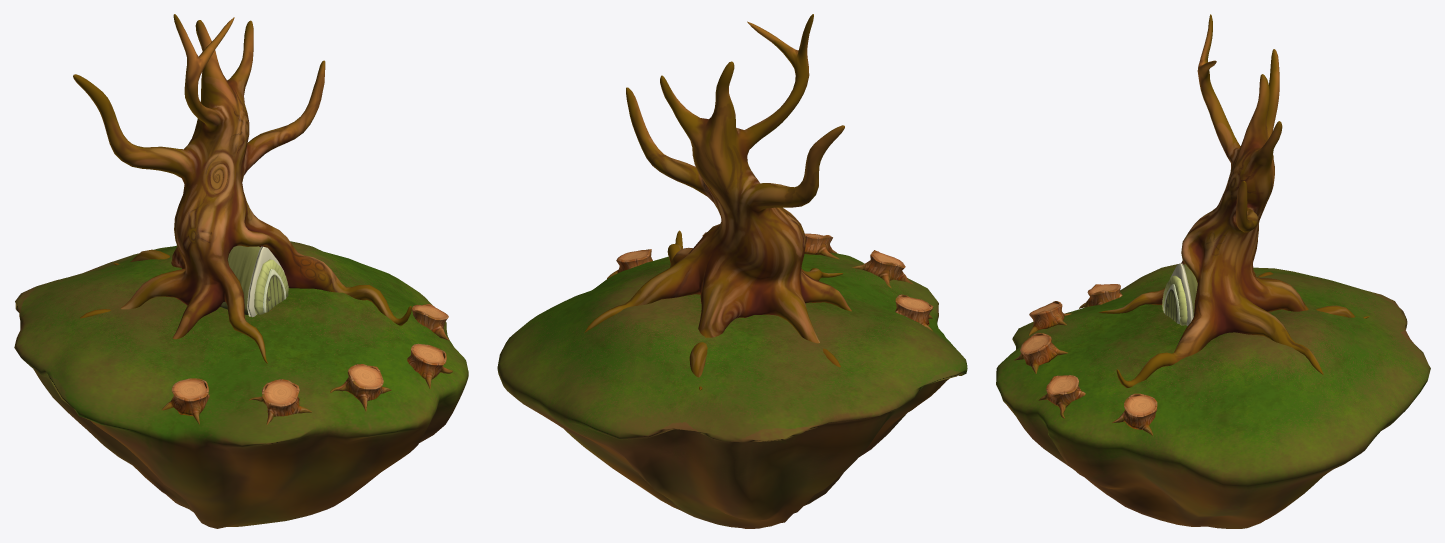
Rendered from EilandFinalContext2.fbx.
The picture shows the model from 3 angles, left to right: view 1: azimuth 30°, elevation 25°; view 2: azimuth 150°, elevation 25°; view 3: azimuth 270°, elevation 25°; orthographic projection. The views are drawn at different scales.
Visible parts, largest first — view 1: PM3D_eiland, pasted__boom1, Huiske_pCube3, pasted__boomstronk3, pasted__boomstronk2, pasted__boomstronk4, pasted__boomstronk5, pasted__boomstronk6; view 2: PM3D_eiland, pasted__boom1, pasted__boomstronk3, pasted__boomstronk4, pasted__boomstronk2, pasted__boomstronk6; view 3: PM3D_eiland, pasted__boom1, Huiske_pCube3, pasted__boomstronk6, pasted__boomstronk2, pasted__boomstronk5, pasted__boomstronk3, pasted__boomstronk4.
Boxes of the visible parts, <box> form: PM3D_eiland: <box>14,241,468,528</box>; pasted__boom1: <box>73,14,411,363</box>; Huiske_pCube3: <box>220,245,288,317</box>; pasted__boomstronk3: <box>249,379,311,424</box>; pasted__boomstronk2: <box>330,364,391,411</box>; pasted__boomstronk4: <box>162,378,209,424</box>; pasted__boomstronk5: <box>407,343,452,388</box>; pasted__boomstronk6: <box>412,304,449,340</box>; PM3D_eiland: <box>497,253,967,528</box>; pasted__boom1: <box>584,14,851,390</box>; pasted__boomstronk3: <box>852,250,912,288</box>; pasted__boomstronk4: <box>895,294,933,331</box>; pasted__boomstronk2: <box>804,233,839,259</box>; pasted__boomstronk6: <box>607,249,652,278</box>; PM3D_eiland: <box>996,263,1430,528</box>; pasted__boom1: <box>1098,14,1369,387</box>; Huiske_pCube3: <box>1162,263,1197,325</box>; pasted__boomstronk6: <box>1112,393,1157,435</box>; pasted__boomstronk2: <box>1014,333,1067,373</box>; pasted__boomstronk5: <box>1038,375,1085,418</box>; pasted__boomstronk3: <box>1028,301,1071,335</box>; pasted__boomstronk4: <box>1079,284,1122,308</box>.
Size of the model in its own units: 35.88 by 44.13 by 36.53.
